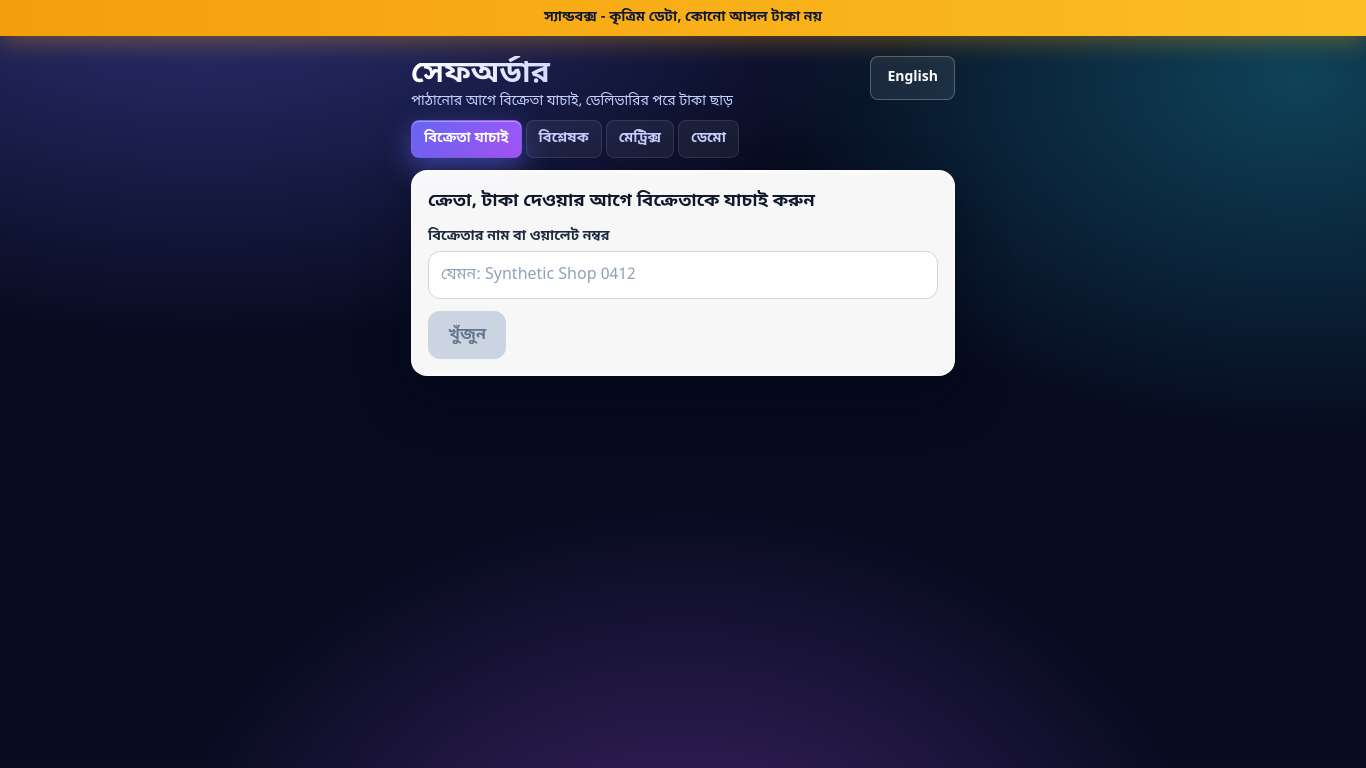
Test: Trust Check screen › says so when no seller matches
The image size is (1366, 768).
In the field labelled "বিক্রেতার নাম বা ওয়ালেট নম্বর": point(683, 275) left=428, top=251, right=938, bottom=299, type "zzz-nobody"
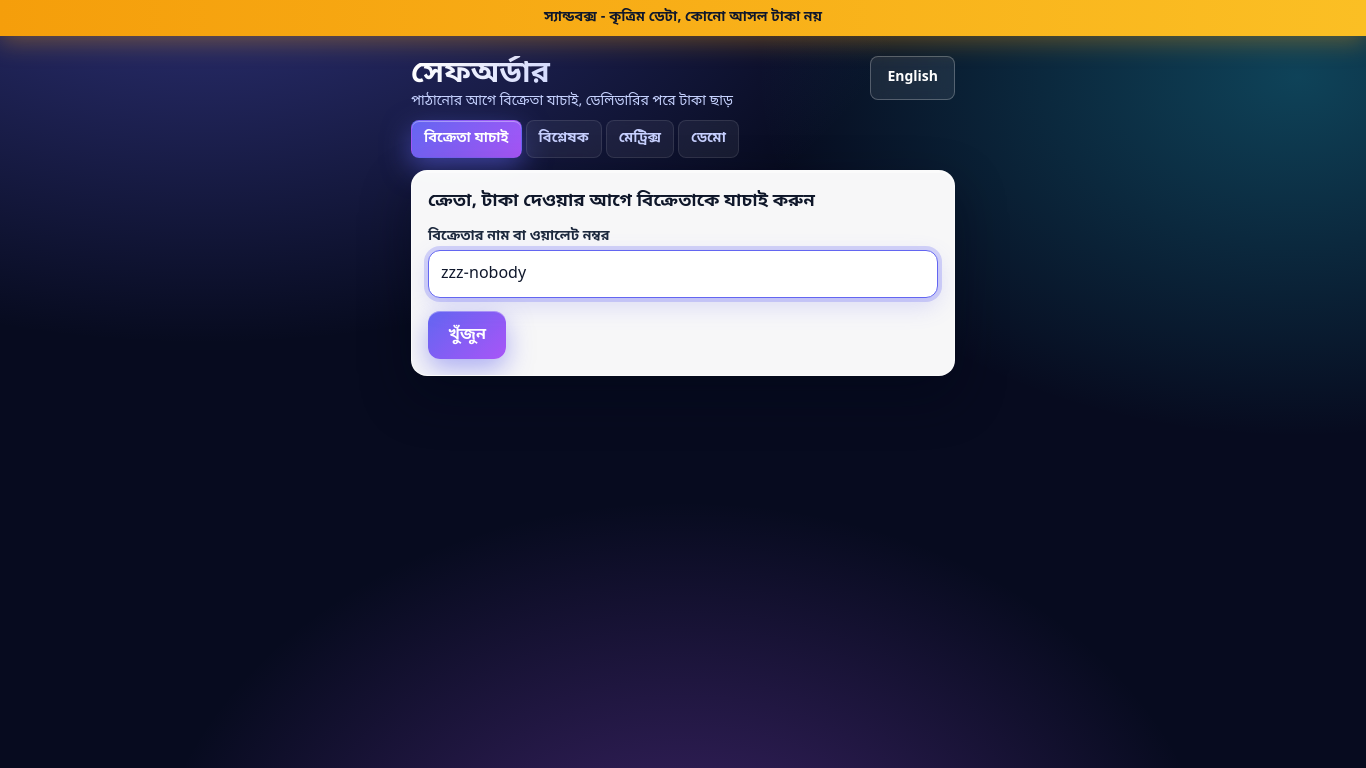
Click the button "খুঁজুন": point(467, 335) left=428, top=311, right=506, bottom=359
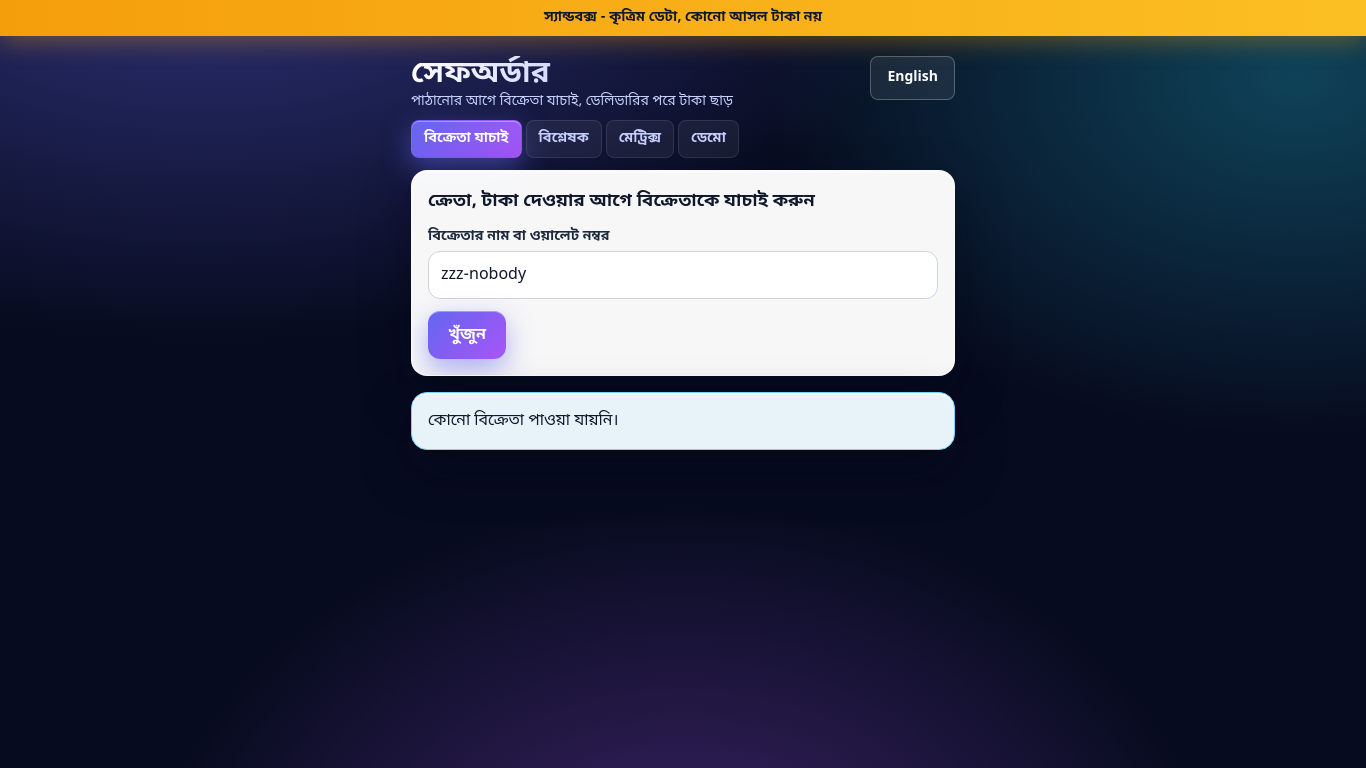
Expected: the text "কোনো বিক্রেতা পাওয়া যায়নি।" is shown, left=428, top=410, right=618, bottom=432
